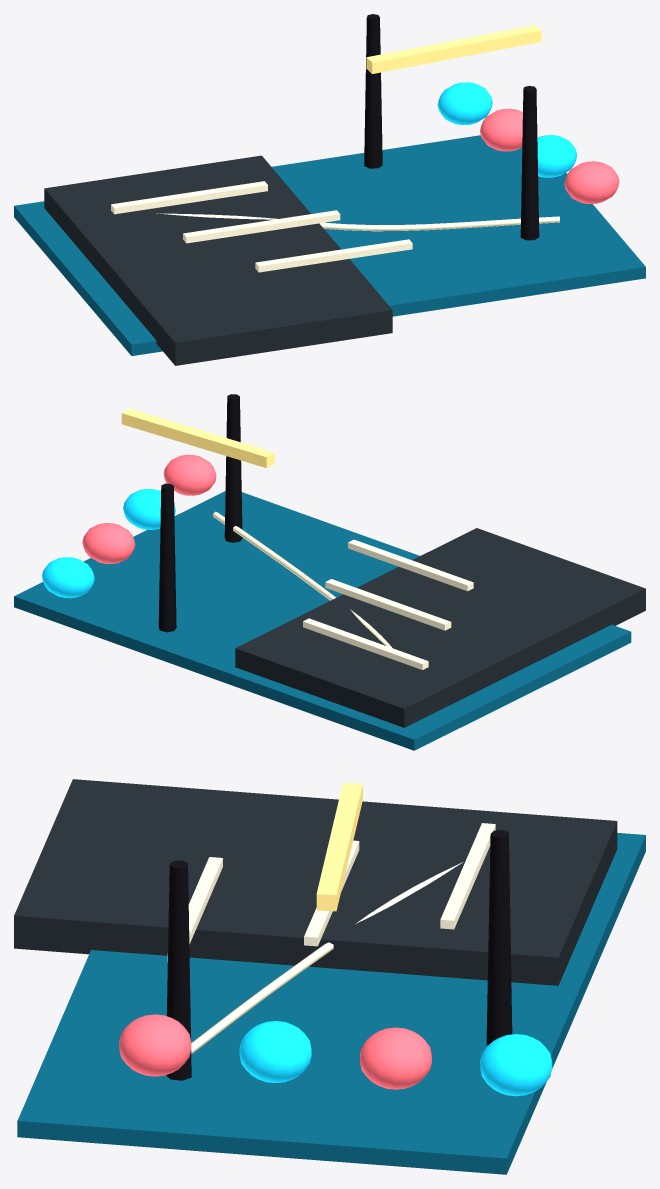
Rendered from field-road-threshold.glb.
3 views of the same model, one above another, from view 1: azimuth 30°, elevation 25°; view 2: azimuth 150°, elevation 25°; view 3: azimuth 270°, elevation 25° (orthographic). The views are drawn at different scales.
Parts seen in each view (by area): view 1: threshold-field-pad, threshold-road-entry, threshold-sign-bar, threshold-post-right, threshold-post-left, threshold-field-marker-0, threshold-field-marker-3, threshold-desire-line, threshold-crosswalk-c, threshold-crosswalk-b, threshold-crosswalk-a, threshold-field-marker-1 (+1 smaller); view 2: threshold-field-pad, threshold-road-entry, threshold-sign-bar, threshold-post-left, threshold-post-right, threshold-field-marker-1, threshold-field-marker-0, threshold-field-marker-3, threshold-crosswalk-b, threshold-crosswalk-a, threshold-crosswalk-c, threshold-field-marker-2 (+1 smaller); view 3: threshold-road-entry, threshold-field-pad, threshold-post-left, threshold-post-right, threshold-field-marker-2, threshold-field-marker-3, threshold-field-marker-0, threshold-field-marker-1, threshold-sign-bar, threshold-desire-line, threshold-crosswalk-a, threshold-crosswalk-c (+1 smaller).
Boxes of the visible parts, bbox=[...] form: threshold-field-pad: bbox=[14, 135, 645, 355]; threshold-road-entry: bbox=[44, 155, 392, 365]; threshold-sign-bar: bbox=[366, 25, 541, 73]; threshold-post-right: bbox=[520, 85, 539, 240]; threshold-post-left: bbox=[364, 14, 382, 168]; threshold-field-marker-0: bbox=[437, 82, 492, 125]; threshold-field-marker-3: bbox=[564, 161, 619, 203]; threshold-desire-line: bbox=[156, 213, 559, 231]; threshold-crosswalk-c: bbox=[255, 239, 412, 272]; threshold-crosswalk-b: bbox=[183, 210, 340, 243]; threshold-crosswalk-a: bbox=[111, 181, 267, 214]; threshold-field-marker-1: bbox=[480, 108, 522, 151]; threshold-field-pad: bbox=[14, 491, 631, 750]; threshold-road-entry: bbox=[235, 528, 645, 727]; threshold-sign-bar: bbox=[121, 408, 274, 468]; threshold-post-left: bbox=[158, 483, 176, 632]; threshold-post-right: bbox=[224, 394, 242, 542]; threshold-field-marker-1: bbox=[82, 523, 135, 563]; threshold-field-marker-0: bbox=[42, 557, 94, 598]; threshold-field-marker-3: bbox=[163, 454, 216, 495]; threshold-crosswalk-b: bbox=[325, 579, 451, 630]; threshold-crosswalk-a: bbox=[303, 618, 428, 669]; threshold-crosswalk-c: bbox=[348, 539, 473, 591]; threshold-field-marker-2: bbox=[123, 489, 175, 529]; threshold-road-entry: bbox=[14, 779, 617, 985]; threshold-field-pad: bbox=[17, 833, 645, 1174]; threshold-post-left: bbox=[486, 830, 512, 1045]; threshold-post-right: bbox=[166, 860, 191, 1080]; threshold-field-marker-2: bbox=[239, 1021, 311, 1082]; threshold-field-marker-3: bbox=[119, 1014, 191, 1076]; threshold-field-marker-0: bbox=[480, 1034, 552, 1096]; threshold-field-marker-1: bbox=[360, 1027, 431, 1089]; threshold-sign-bar: bbox=[316, 783, 362, 911]; threshold-desire-line: bbox=[191, 862, 462, 1054]; threshold-crosswalk-a: bbox=[440, 823, 495, 929]; threshold-crosswalk-c: bbox=[167, 857, 222, 961].
Size of the model in its own units: 2.13 by 0.67 by 1.58.
